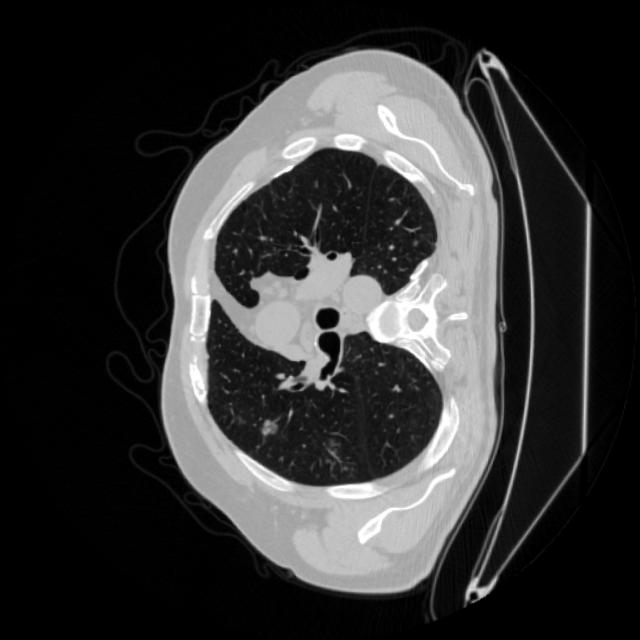nodule: (252, 412, 282, 443)
